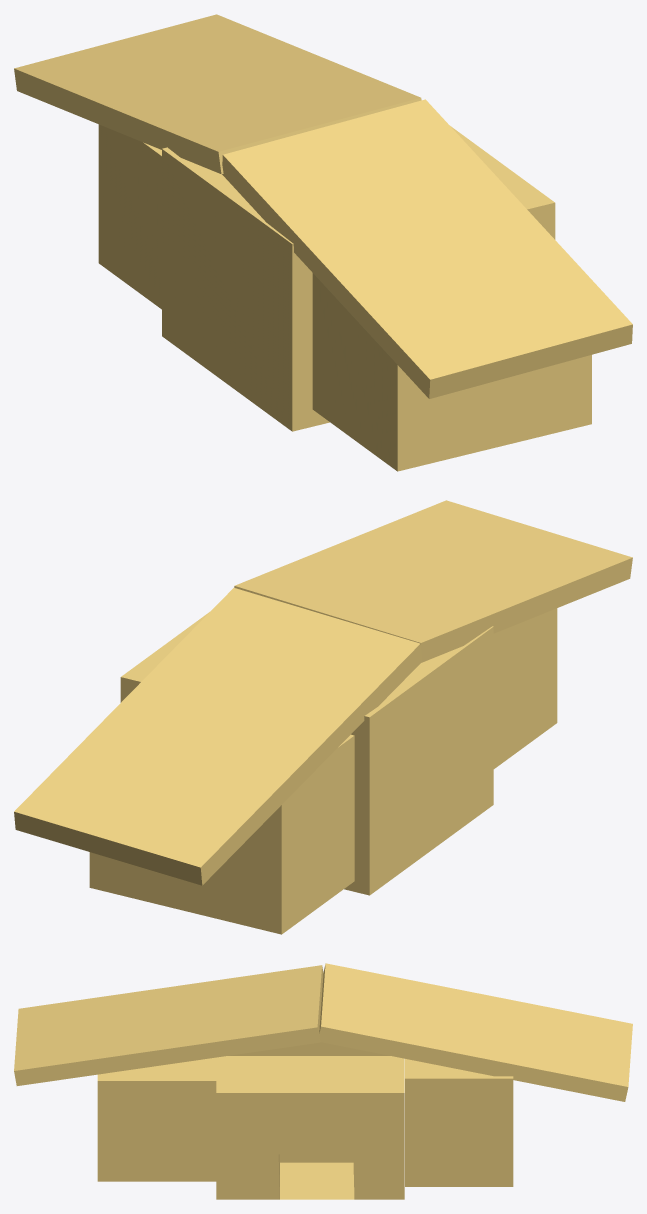
Rendered from SCNav.glb.
3 views of the same model, one above another, from view 1: azimuth 30°, elevation 25°; view 2: azimuth 150°, elevation 25°; view 3: azimuth 270°, elevation 25° (orthographic). The views are drawn at different scales.
Visible parts, largest first — view 1: Cube.006, Cube.005, Cube.004, Cube.002, Cube.003, Cube.001; view 2: Cube.005, Cube.006, Cube.004, Cube.003, Cube.002, Cube.001; view 3: Cube.001, Cube.005, Cube.006, Cube.002, Cube.003, Cube.004.
Boxes of the visible parts, x1,y1,x2,y2 form: Cube.006: [222, 99, 632, 398]; Cube.005: [14, 14, 421, 174]; Cube.004: [162, 147, 329, 431]; Cube.002: [312, 273, 591, 471]; Cube.003: [98, 124, 161, 309]; Cube.001: [450, 126, 555, 239]; Cube.005: [14, 588, 422, 885]; Cube.006: [234, 500, 632, 662]; Cube.004: [344, 626, 493, 895]; Cube.003: [89, 734, 354, 934]; Cube.002: [493, 608, 557, 768]; Cube.001: [120, 612, 209, 702]; Cube.001: [216, 1056, 404, 1199]; Cube.005: [319, 963, 632, 1101]; Cube.006: [14, 965, 323, 1085]; Cube.002: [97, 1057, 216, 1181]; Cube.003: [405, 1059, 513, 1186]; Cube.004: [228, 1042, 389, 1055].
Size of the model in its own units: 11.5 by 9.62 by 32.97.
